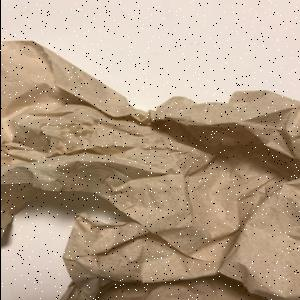Trash: (2, 41, 300, 300)
